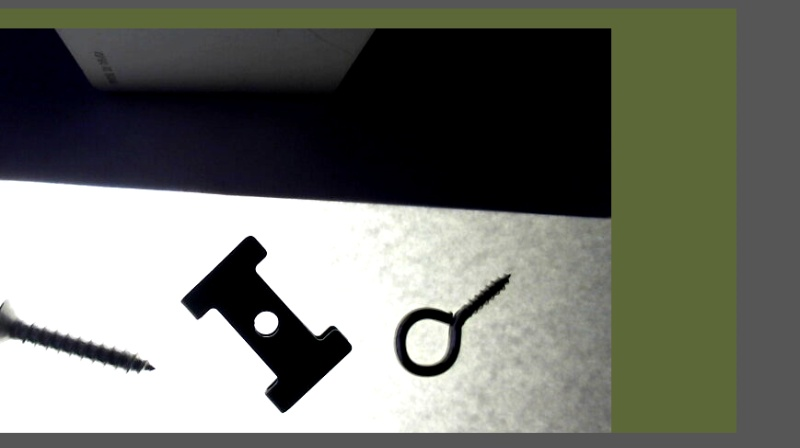O001: (392, 271, 513, 378)
O002: (184, 230, 355, 412)
S001: (0, 294, 157, 376)
